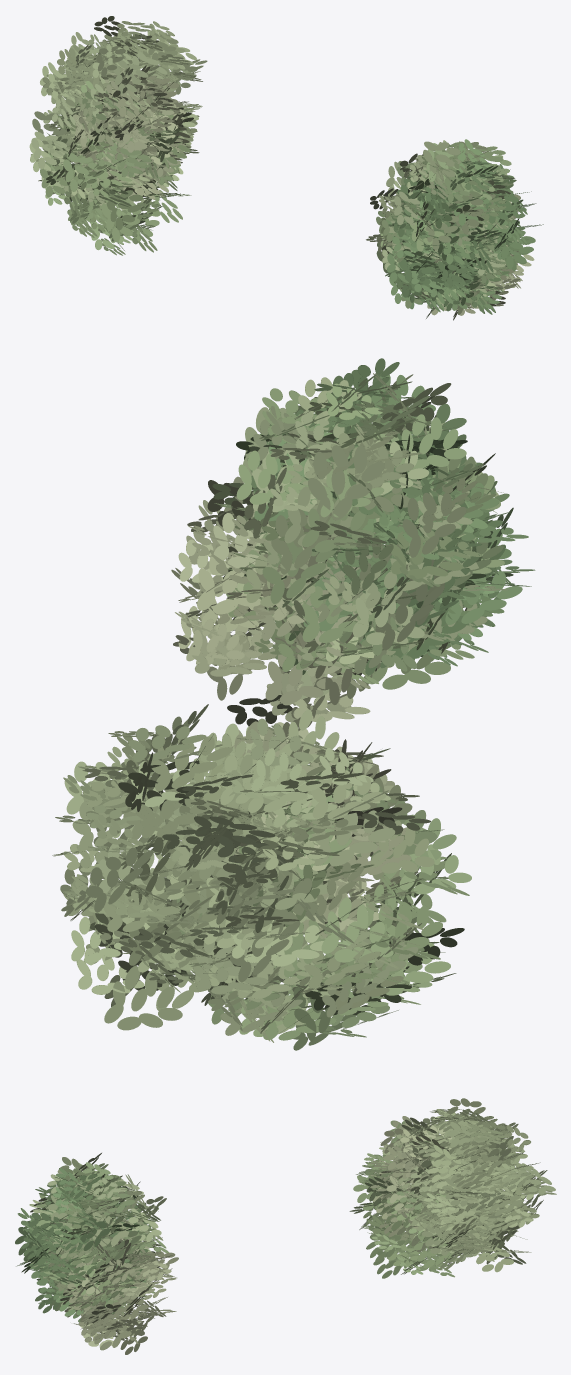
File: campus-tree--6_-5-near.glb
3 renders of one model, top to bottom at view 1: azimuth 30°, elevation 25°; view 2: azimuth 150°, elevation 25°; view 3: azimuth 270°, elevation 25°, orthographic. The views are drawn at different scales.
Visible parts, largest first — view 1: Campus leaf canopy; view 2: Campus leaf canopy; view 3: Campus leaf canopy.
Boxes of the visible parts, bbox=[...] form: Campus leaf canopy: bbox=[29, 16, 543, 320]; Campus leaf canopy: bbox=[52, 358, 535, 1050]; Campus leaf canopy: bbox=[15, 1098, 556, 1354].
Size of the model in its own units: 10.37 by 6.5 by 16.52.
Materials: 1 (1 with a texture image).
